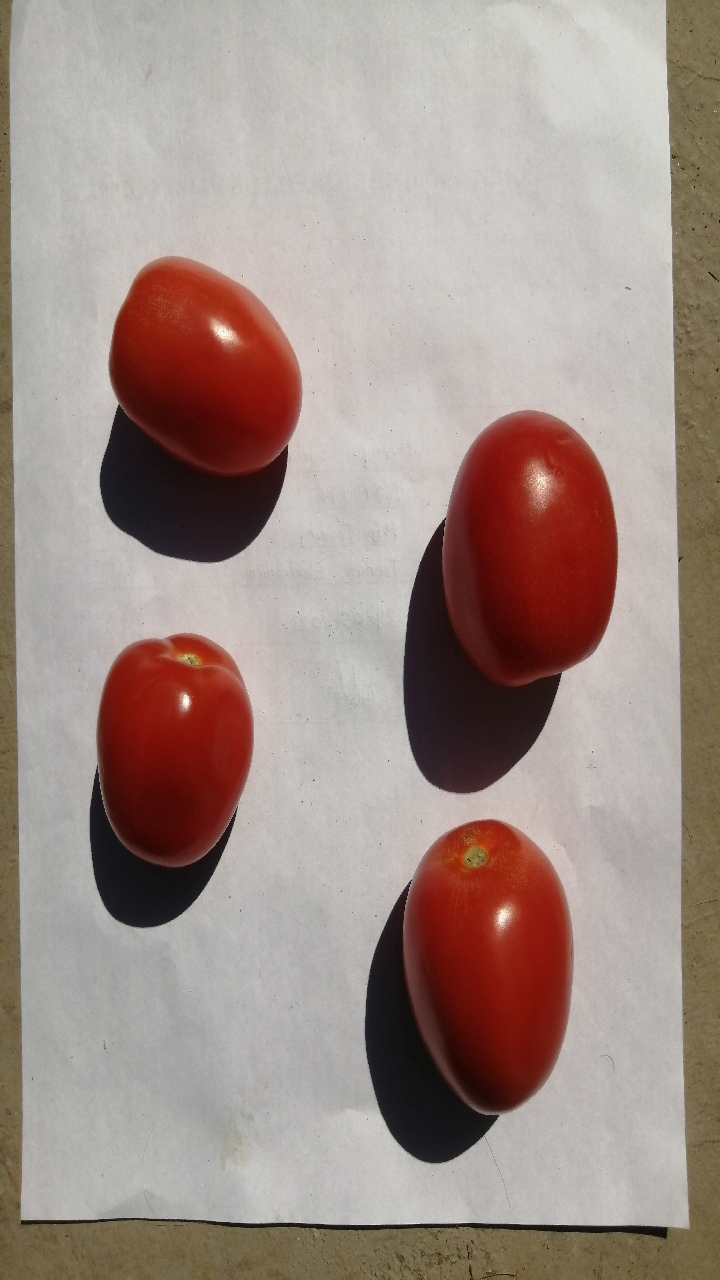tomateRojo: (384, 792, 589, 1134), (81, 225, 334, 500), (424, 382, 631, 699), (84, 615, 268, 888)
